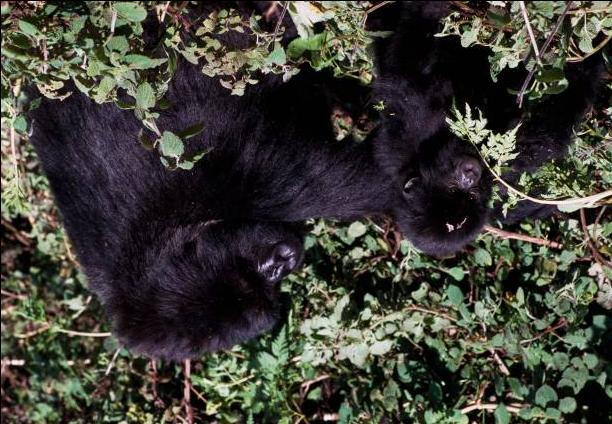goriile_montagne: (24, 46, 372, 350), (340, 24, 580, 260)
